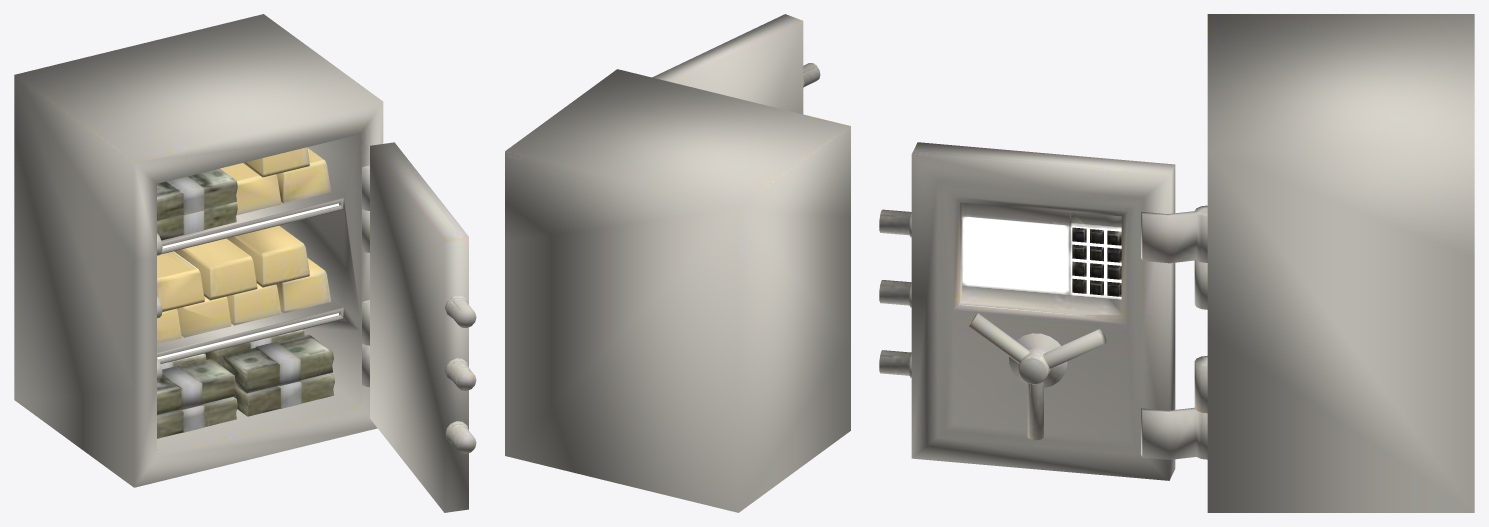
The model's file is vault.glb.
3 renders of one model, left to right at view 1: azimuth 30°, elevation 25°; view 2: azimuth 150°, elevation 25°; view 3: azimuth 270°, elevation 25°, orthographic. The views are drawn at different scales.
Parts seen in each view (by area): view 1: defaultMaterial; view 2: defaultMaterial; view 3: defaultMaterial.
Part boxes in pixels (x1,y1,x2,y2): defaultMaterial: (14, 14, 476, 512); defaultMaterial: (505, 14, 850, 512); defaultMaterial: (879, 14, 1474, 512).
Bounding box in the file's own units: 1.08 × 1.35 × 2.
1 material, 1 textured.
